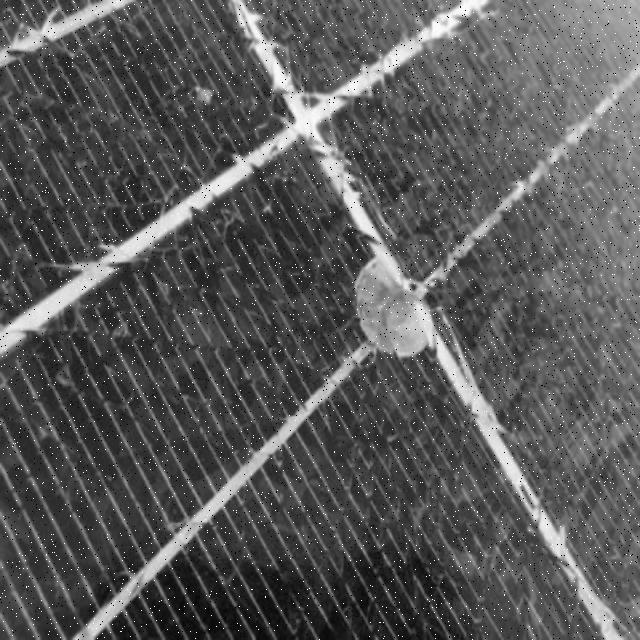physical damage: (293, 146, 528, 464)
